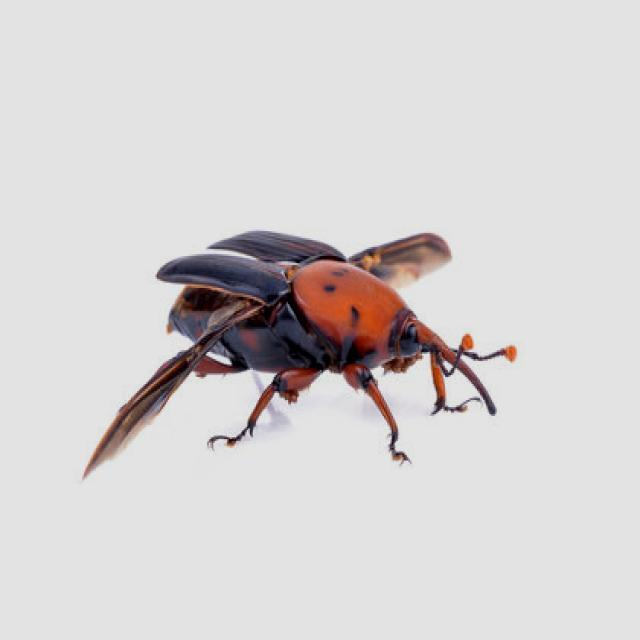Red-palm-weevil: (76, 224, 521, 470)
